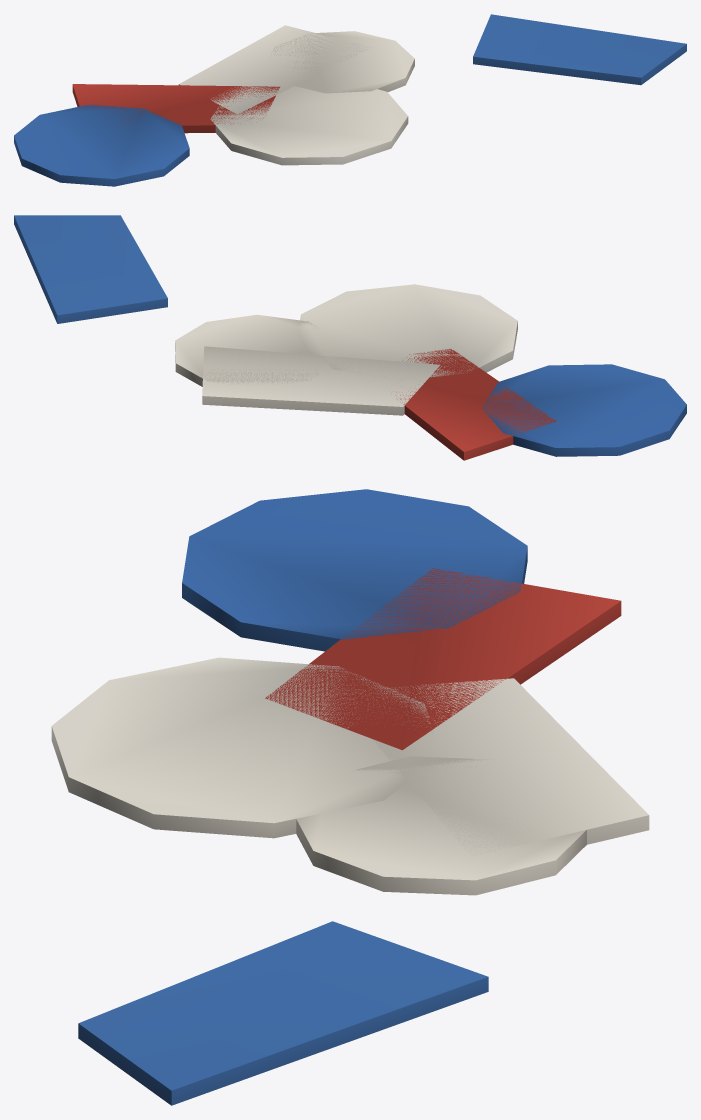
The model's file is den_gc_confetti.glb.
3 views of the same model, one above another, from view 1: azimuth 30°, elevation 25°; view 2: azimuth 150°, elevation 25°; view 3: azimuth 270°, elevation 25° (orthographic). The views are drawn at different scales.
Parts seen in each view (by area): view 1: den_gc_confetti; view 2: den_gc_confetti; view 3: den_gc_confetti.
Boxes of the visible parts, <box> form: den_gc_confetti: <box>14,14,686,186</box>; den_gc_confetti: <box>14,215,686,460</box>; den_gc_confetti: <box>51,489,649,1105</box>.
Size of the model in its own units: 1.71 by 0.02 by 0.7185.
